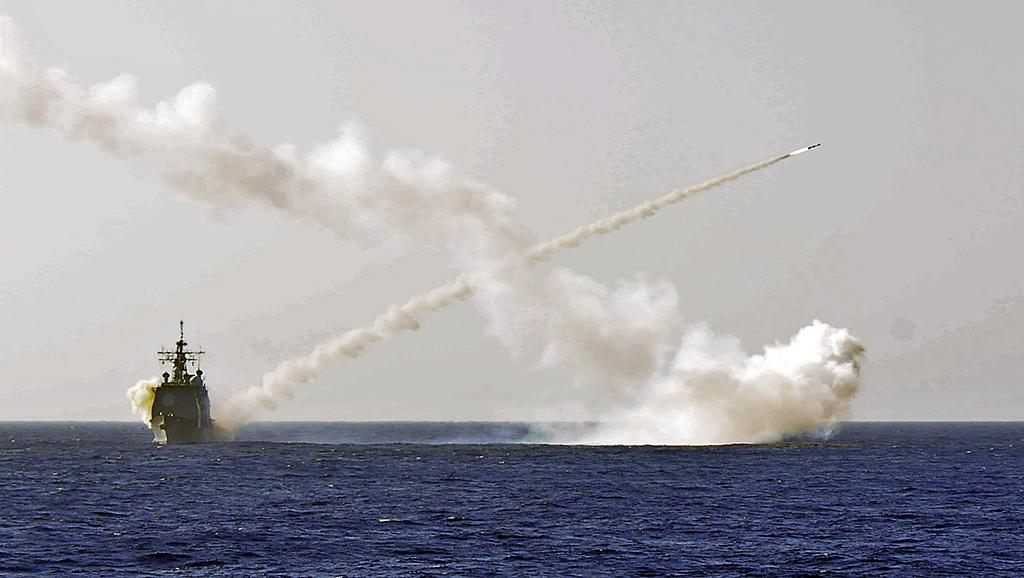Missile: (806, 143, 822, 148)
